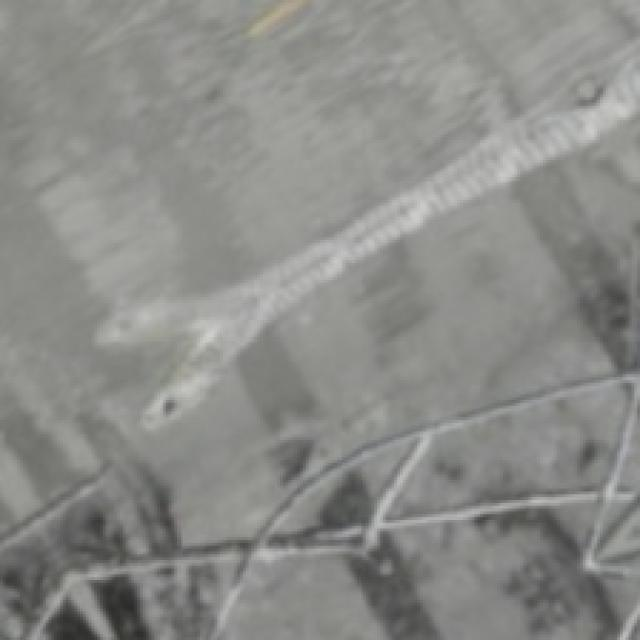king cobra: (0, 0, 637, 637), (140, 54, 637, 429), (417, 511, 637, 637), (137, 306, 263, 429), (354, 546, 446, 637)
